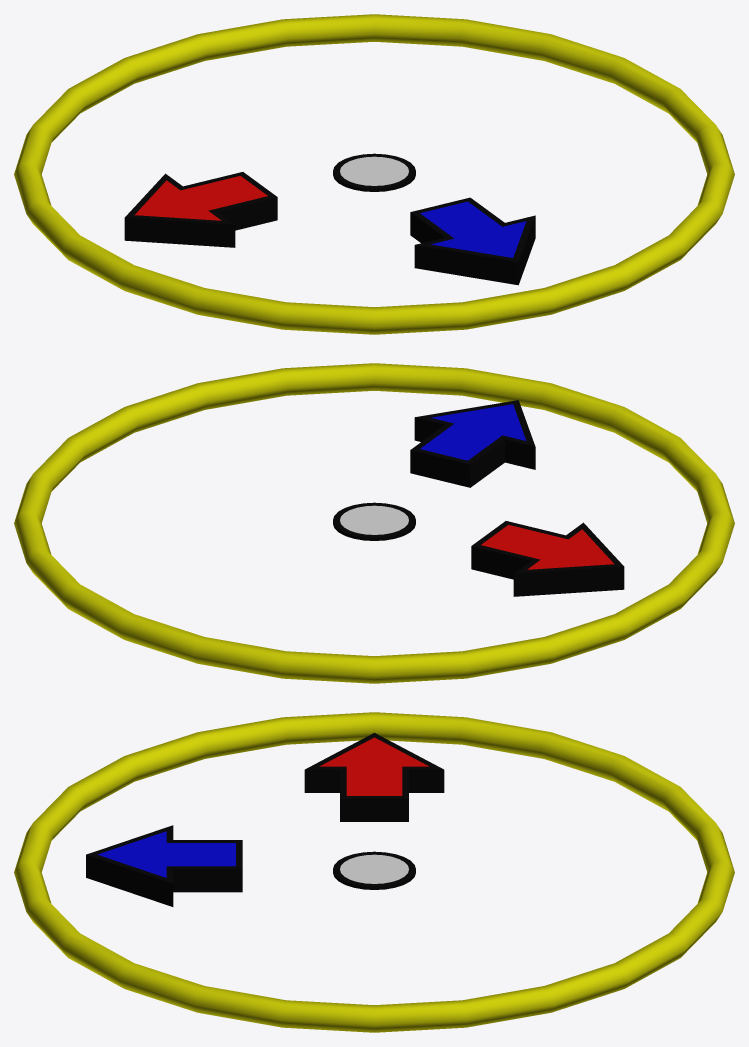
Rendered from OriginPrimitive.fbx.
The picture shows the model from 3 angles, top to bottom: view 1: azimuth 30°, elevation 25°; view 2: azimuth 150°, elevation 25°; view 3: azimuth 270°, elevation 25°; orthographic projection.
Visible parts, largest first — view 1: OriginPrimitive_Mesh; view 2: OriginPrimitive_Mesh; view 3: OriginPrimitive_Mesh.
Boxes of the visible parts, <box> form: OriginPrimitive_Mesh: <box>14,14,734,334</box>; OriginPrimitive_Mesh: <box>14,363,734,683</box>; OriginPrimitive_Mesh: <box>14,712,734,1032</box>.
Size of the model in its own units: 104 by 4.58 by 104.
